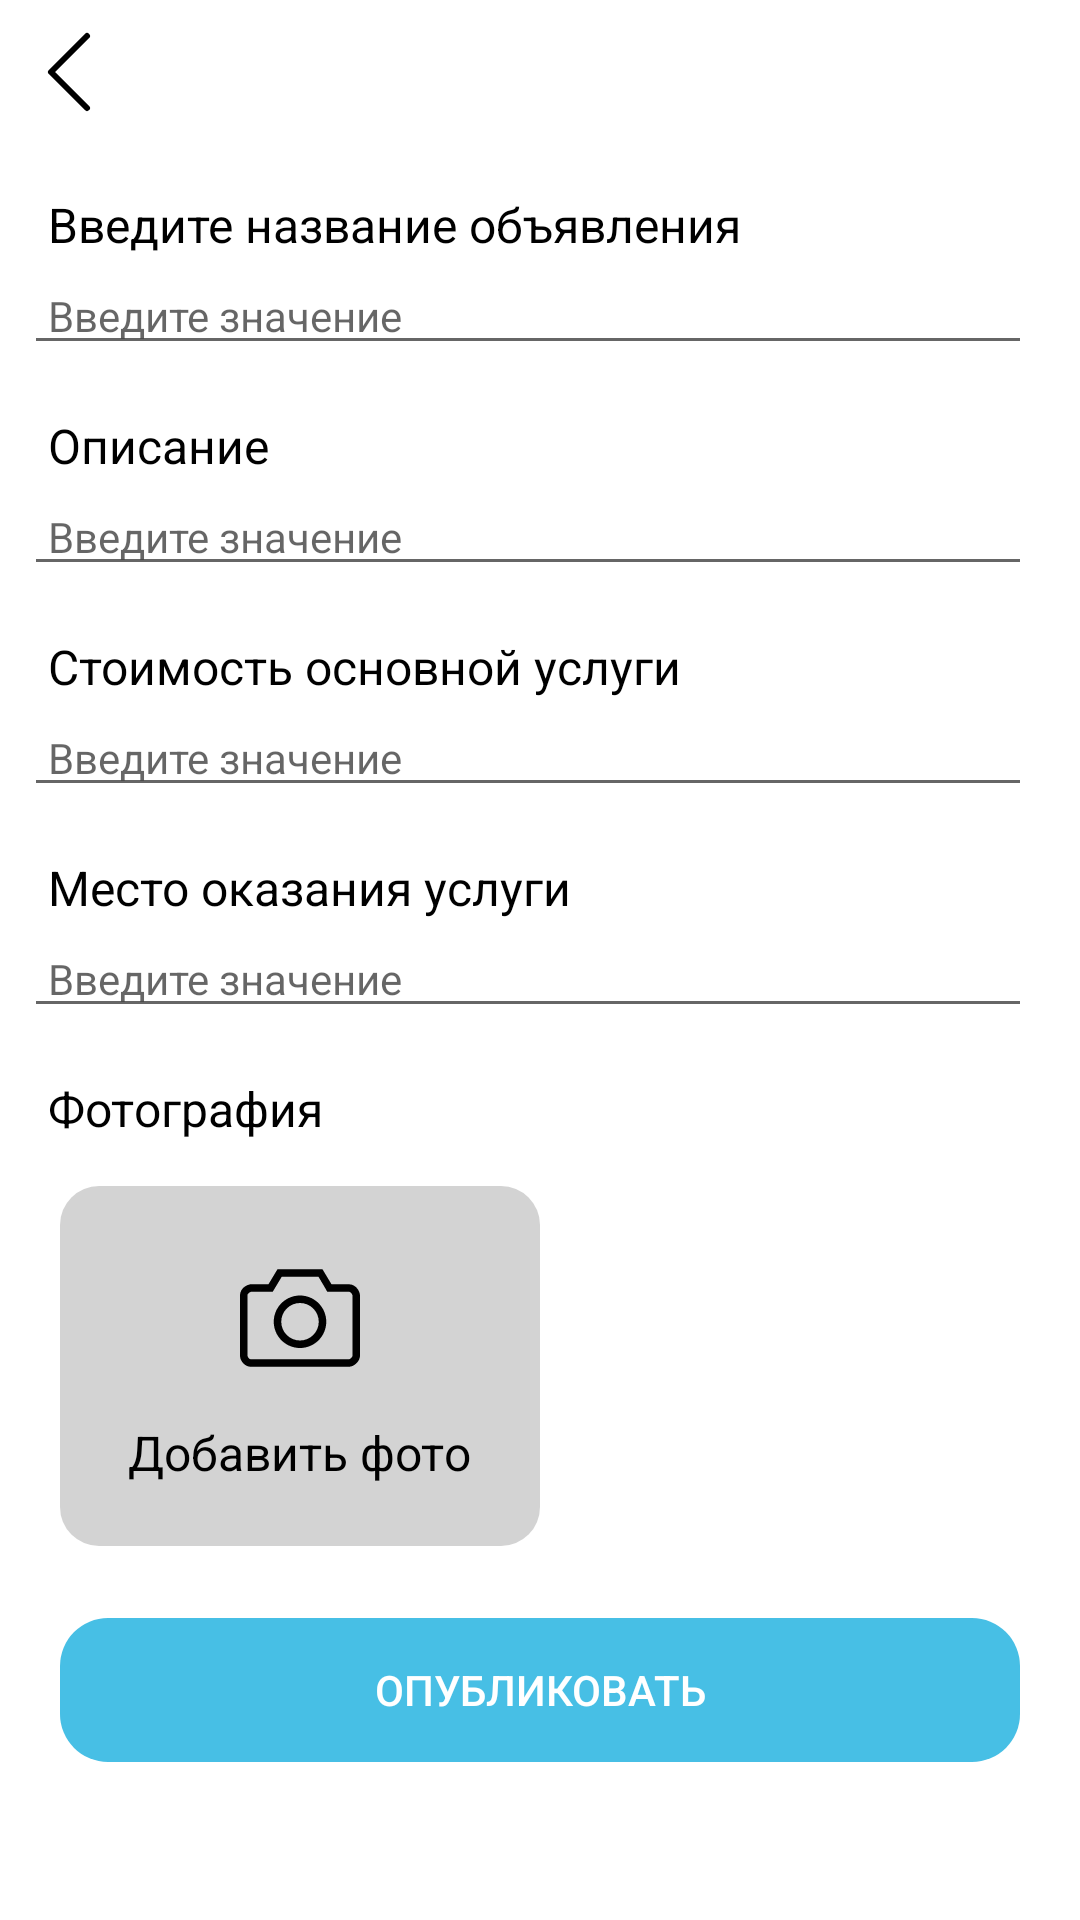

Icons on this 1080x1920 Android screen, each with the point to tap as (x,y):
back arrow: (69,71)
camera: (300,1318)
